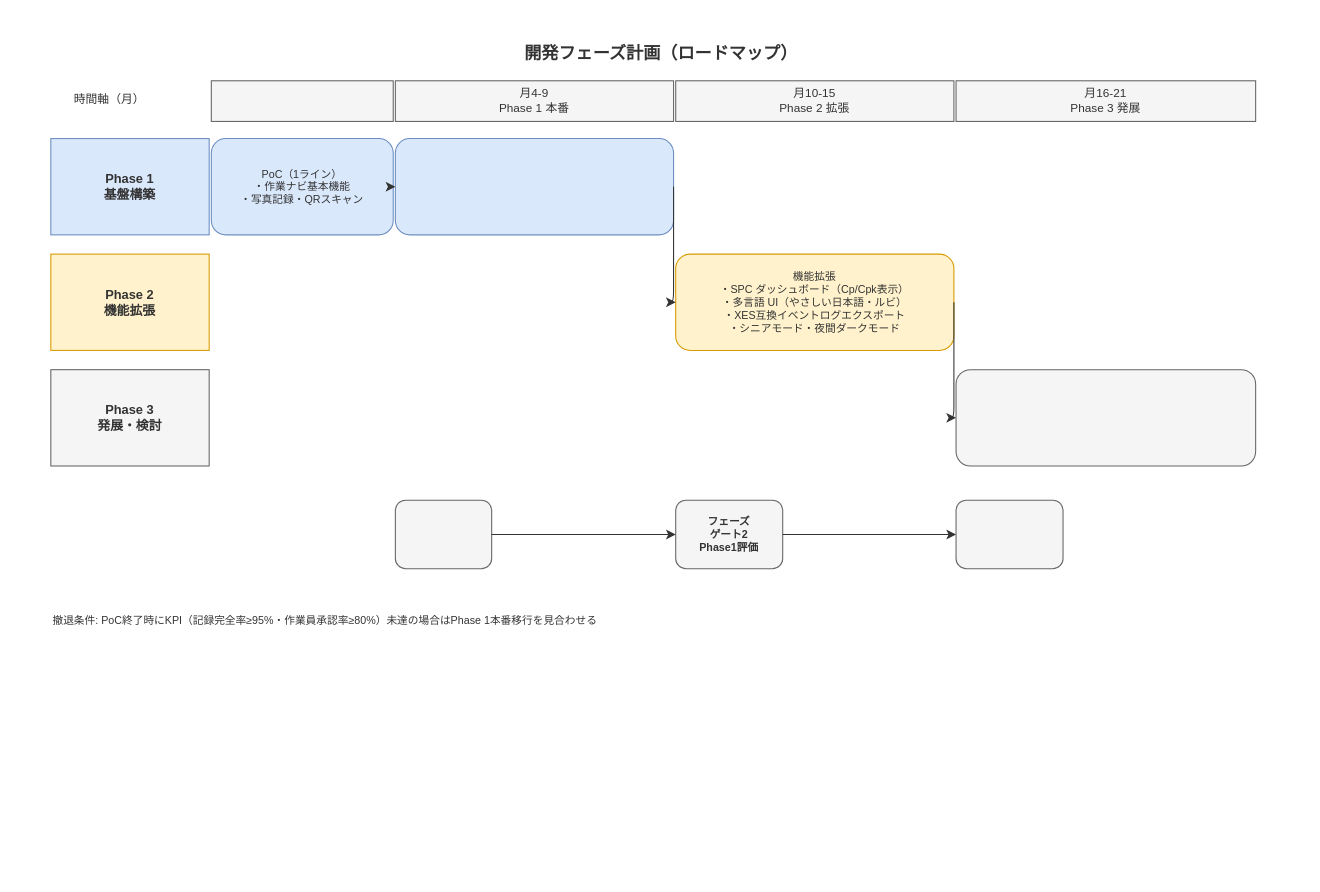
Some shapes in this 1320 by 892 pixel diagram are drawn without their labels. The box of each missing label's shape, as (x1, y1, x2, y2) in pixels:
フェーズ ゲート1 PoC評価: (394, 499, 492, 569)
フェーズ ゲート3 Phase2評価: (955, 499, 1063, 569)
月1-3 PoC: (210, 80, 393, 121)
本番展開（全ライン） ・ALCOA+監査ログ ・不適合・CAPA記録 ・Kaizen Teian投稿 ・JWT認証・ロール権限: (394, 137, 674, 235)
発展・検討（要件確認後判断） ・多工場対応・EPCIS互換 ・SIerパートナー連携 ・RFC 3161タイムスタンプ: (955, 369, 1256, 466)
